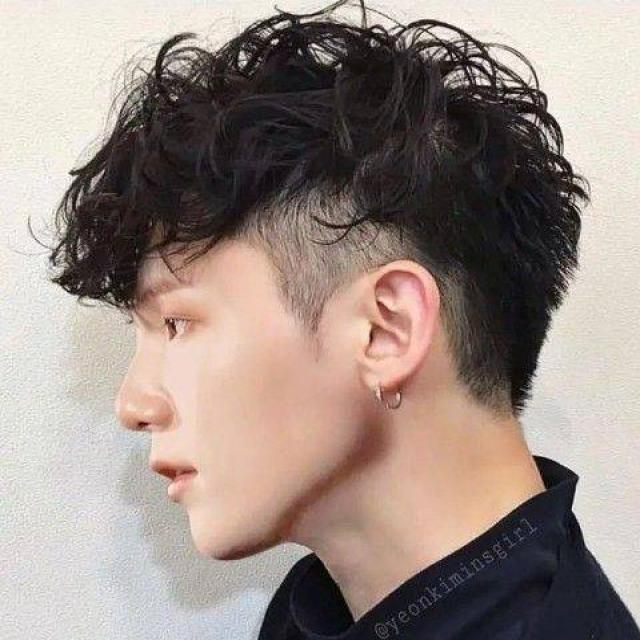Nonhelmet: (31, 0, 590, 585)
